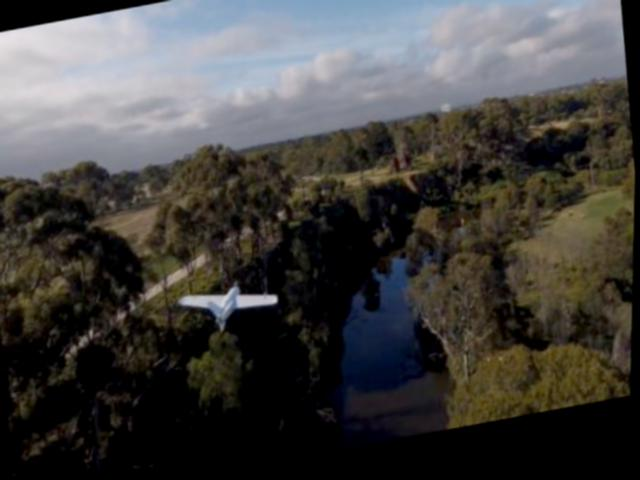uav: (178, 279, 284, 346)
